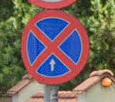oprirea_interzisa: (21, 10, 89, 84)
